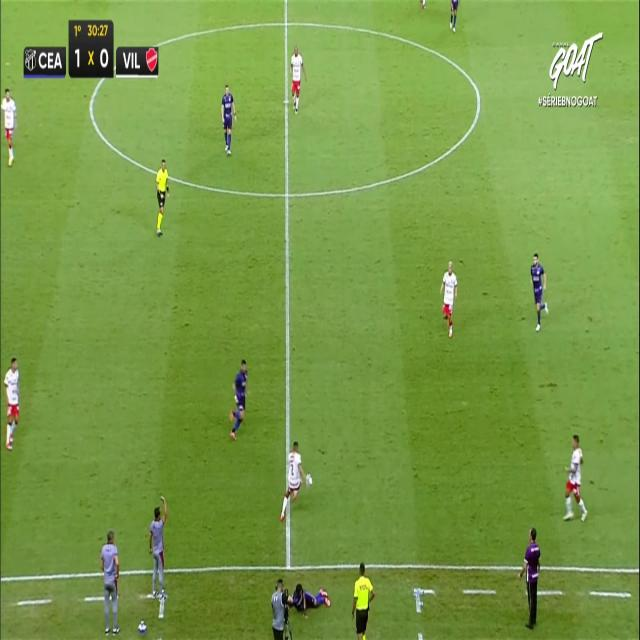ball: (307, 471, 316, 489)
player: (280, 440, 312, 521), (563, 433, 588, 522), (228, 358, 248, 440), (3, 356, 20, 450), (530, 252, 548, 332), (440, 260, 458, 338), (289, 44, 307, 114), (1, 88, 17, 166), (220, 84, 236, 155), (448, 0, 462, 38), (415, 0, 429, 12)
referee: (352, 565, 376, 640), (155, 158, 169, 236), (283, 606, 287, 609)
